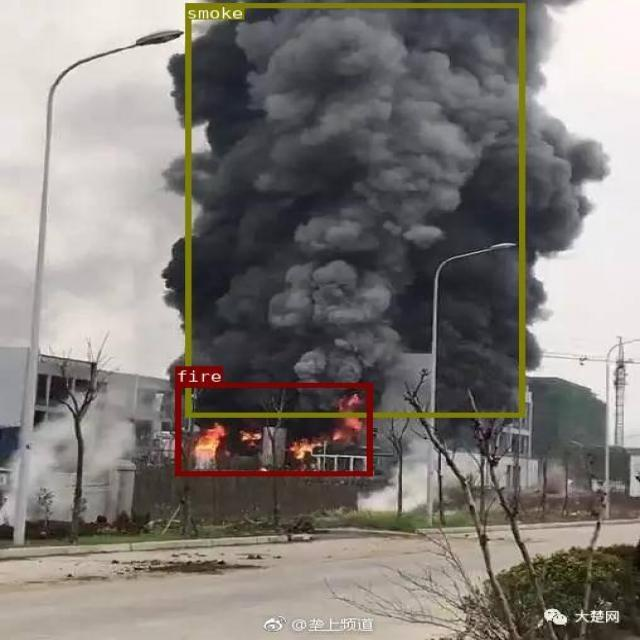fire: (174, 383, 371, 476)
smoke: (184, 3, 524, 416)
